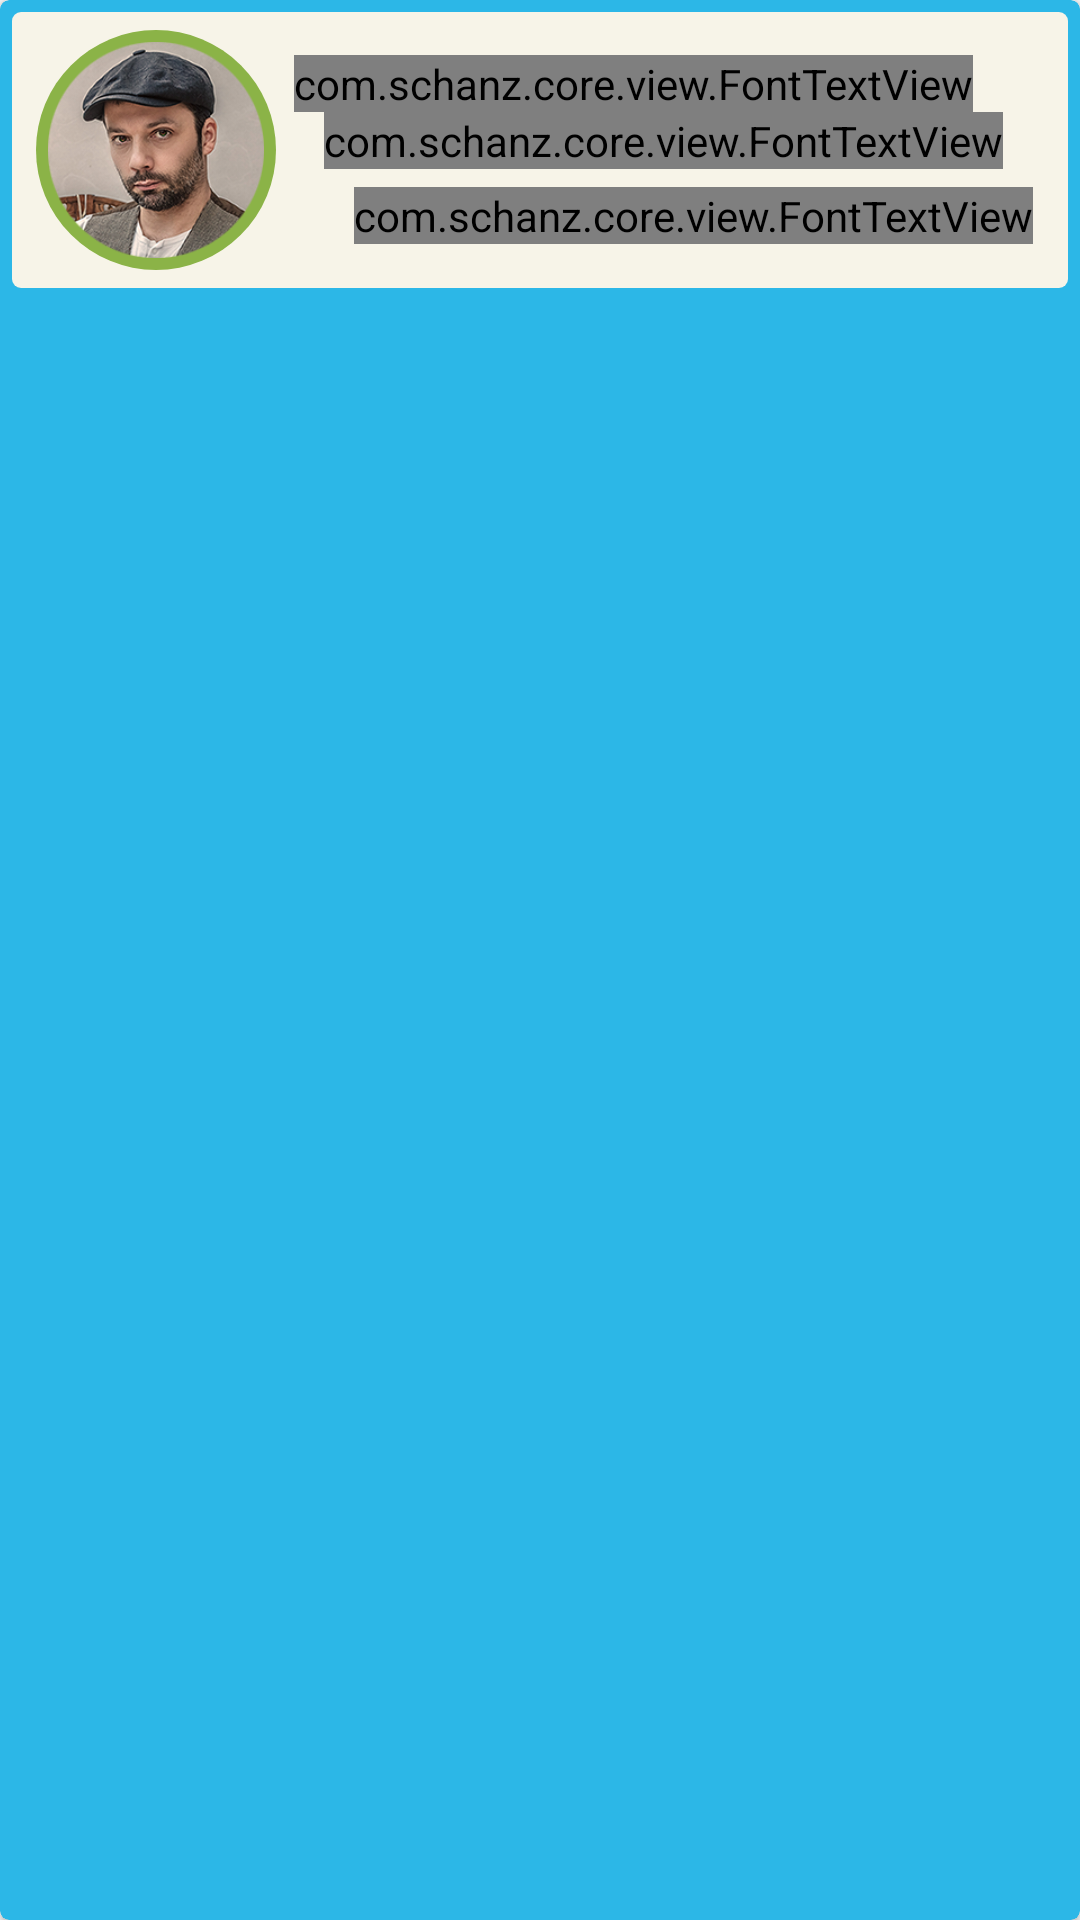

Screen size 1080×1920. Icon name, then its center in pixels as (x=x, y=y):
profile man: (x=156, y=150)
